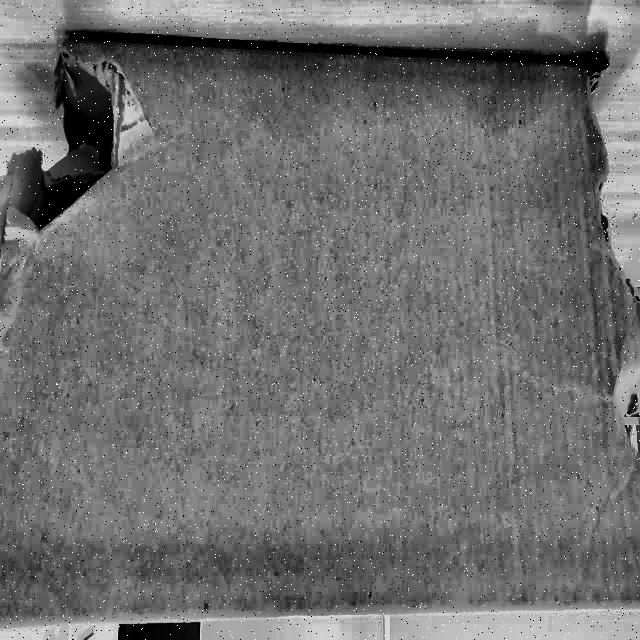box: (0, 27, 639, 635)
hole: (11, 44, 137, 251), (579, 51, 640, 463)
